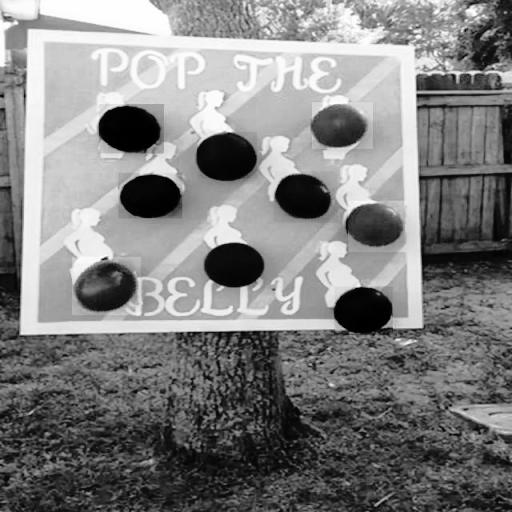balloon: (72, 257, 142, 315), (99, 104, 164, 154), (274, 172, 338, 222), (348, 201, 406, 252), (334, 286, 393, 336), (118, 173, 183, 218), (312, 102, 373, 149), (198, 132, 256, 178), (207, 242, 266, 287)
